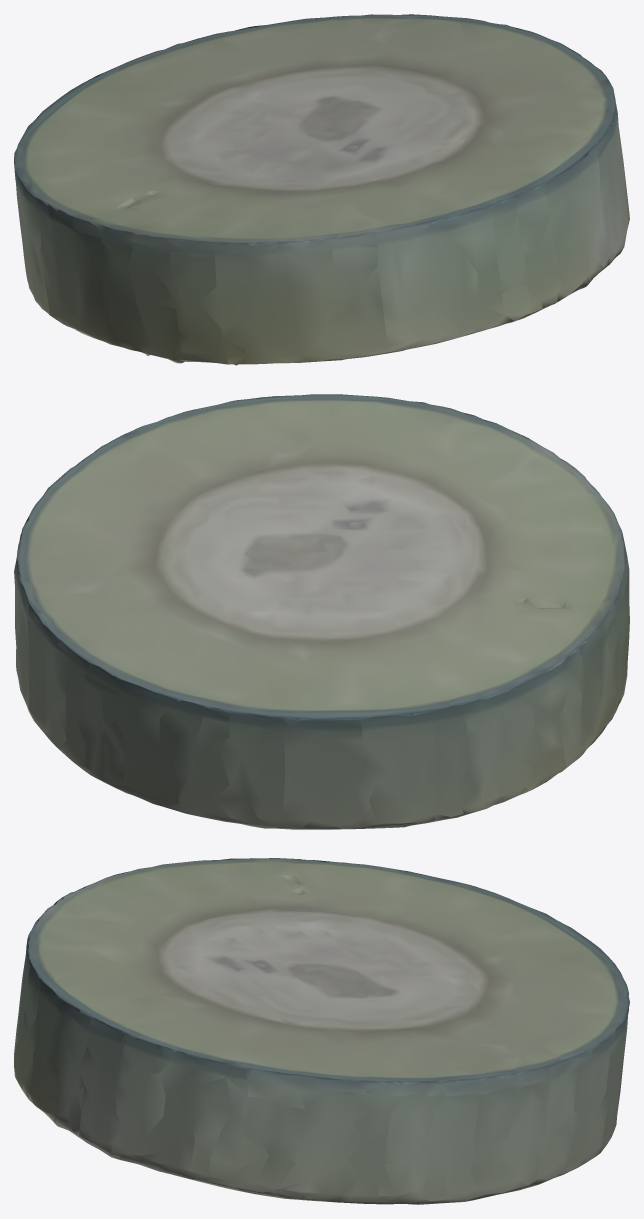
Rendered from 0003_mask_004_soap_bar.glb.
3 views of the same model, one above another, from view 1: azimuth 30°, elevation 25°; view 2: azimuth 150°, elevation 25°; view 3: azimuth 270°, elevation 25° (orthographic). The views are drawn at different scales.
Visible parts, largest first — view 1: mask_004_object; view 2: mask_004_object; view 3: mask_004_object.
Part boxes in pixels (x1,y1,x2,y2): mask_004_object: [14, 14, 629, 365]; mask_004_object: [14, 394, 629, 829]; mask_004_object: [14, 858, 629, 1204].
Size of the model in its own units: 0.1258 by 0.0424 by 0.1279.
